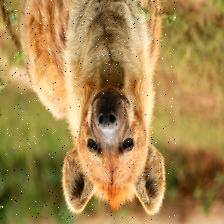hyena: (0, 0, 176, 221)
